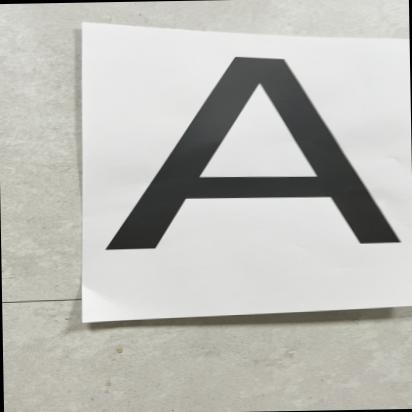seat: (105, 39, 412, 277)
